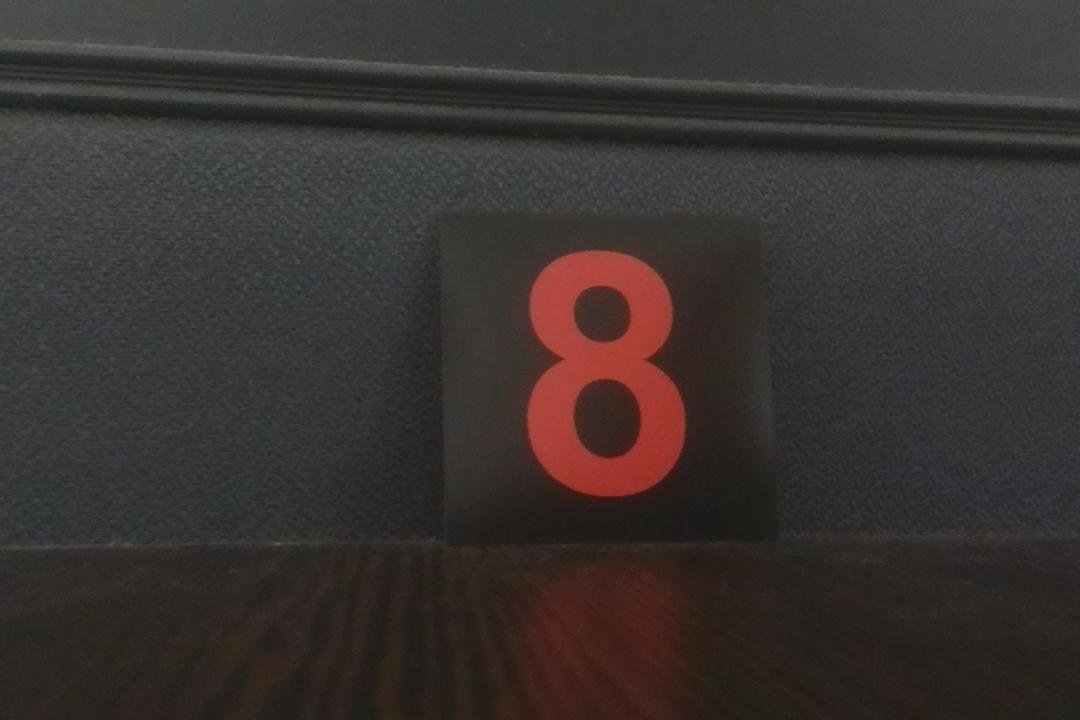eight: (435, 211, 780, 541)
